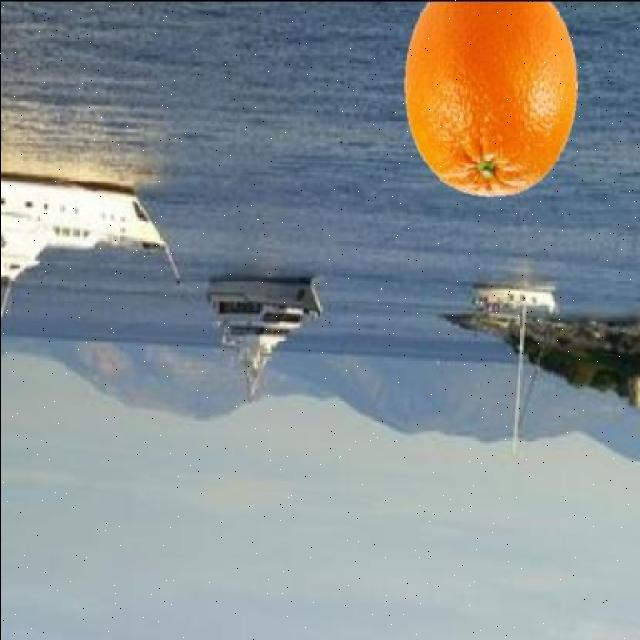Orange: (403, 0, 580, 197)
